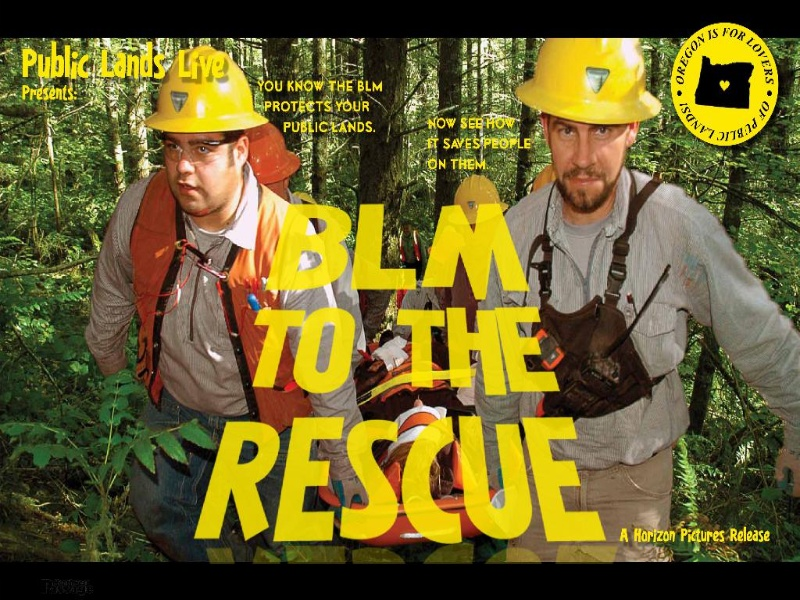helmet: (516, 35, 666, 125), (148, 45, 269, 133)
